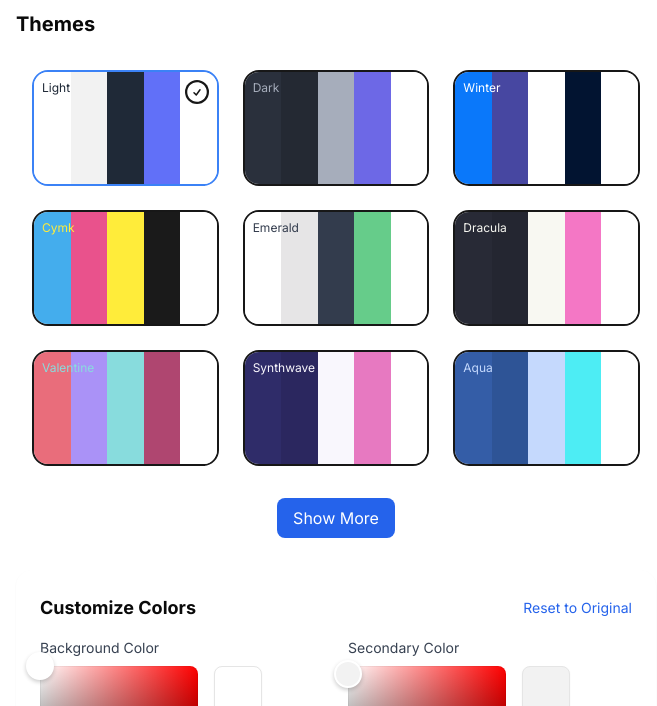
Scenario: ThemesPicker › shows more themes when "Show More" is clicked
// Click "Show More" button
Click the button "Show More" at point(336, 518), box [277, 498, 395, 538]
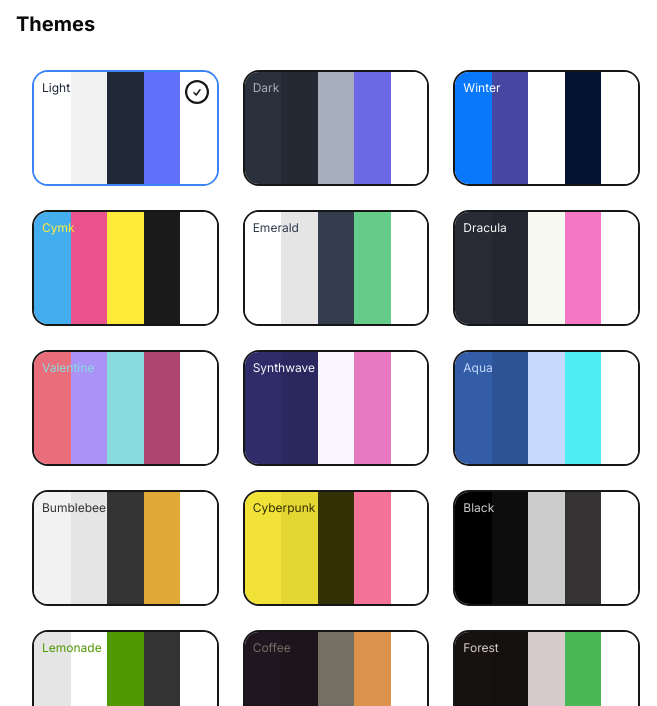
Now the text "Bumblebee" is shown, box [42, 500, 106, 516]
Now the text "Cyberpunk" is shown, box [253, 500, 316, 516]
Now the text "Black" is shown, box [463, 500, 494, 516]
